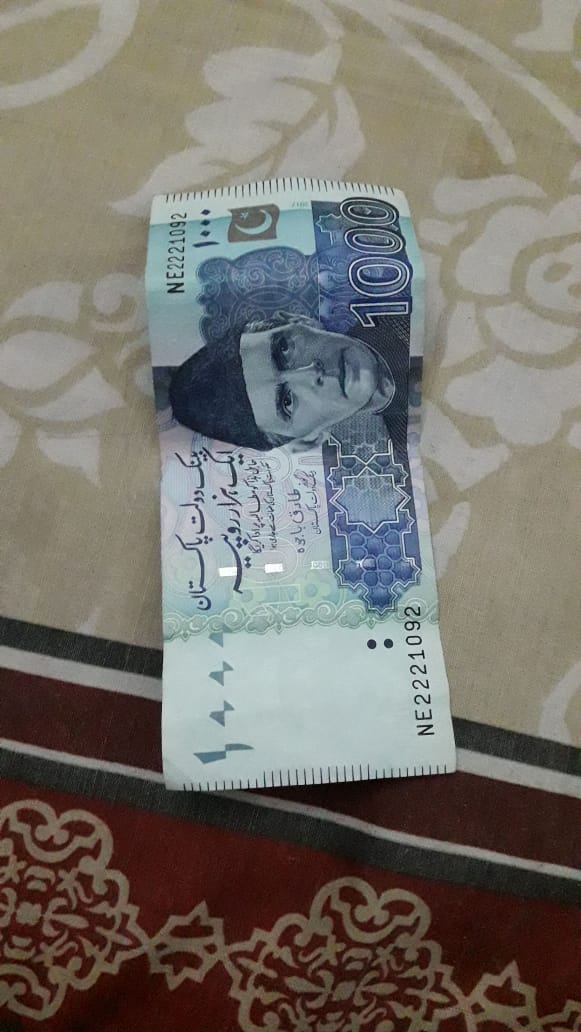1000 rupee: (104, 178, 479, 854)
